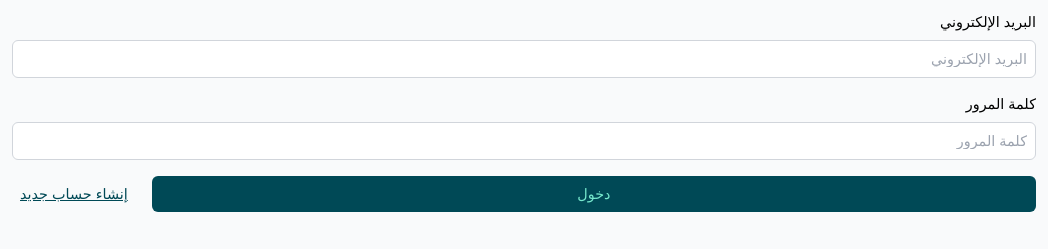
LoginForm › validates password length
Type "12345" into the password field with placeholder "كلمة المرور" at (524, 141), box [12,122,1036,160]
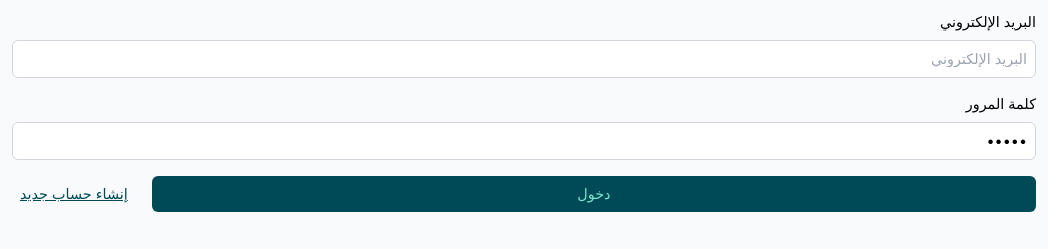
Leave the password field with placeholder "كلمة المرور", box [12,122,1036,160]
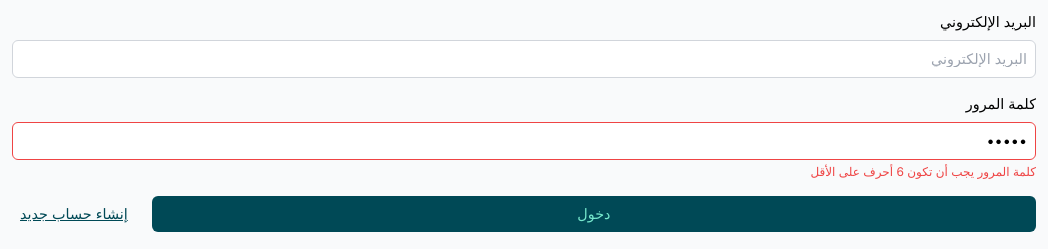
Check: the text "كلمة المرور يجب أن تكون 6 أحرف على الأقل" is shown, box [810,164,1036,179]
